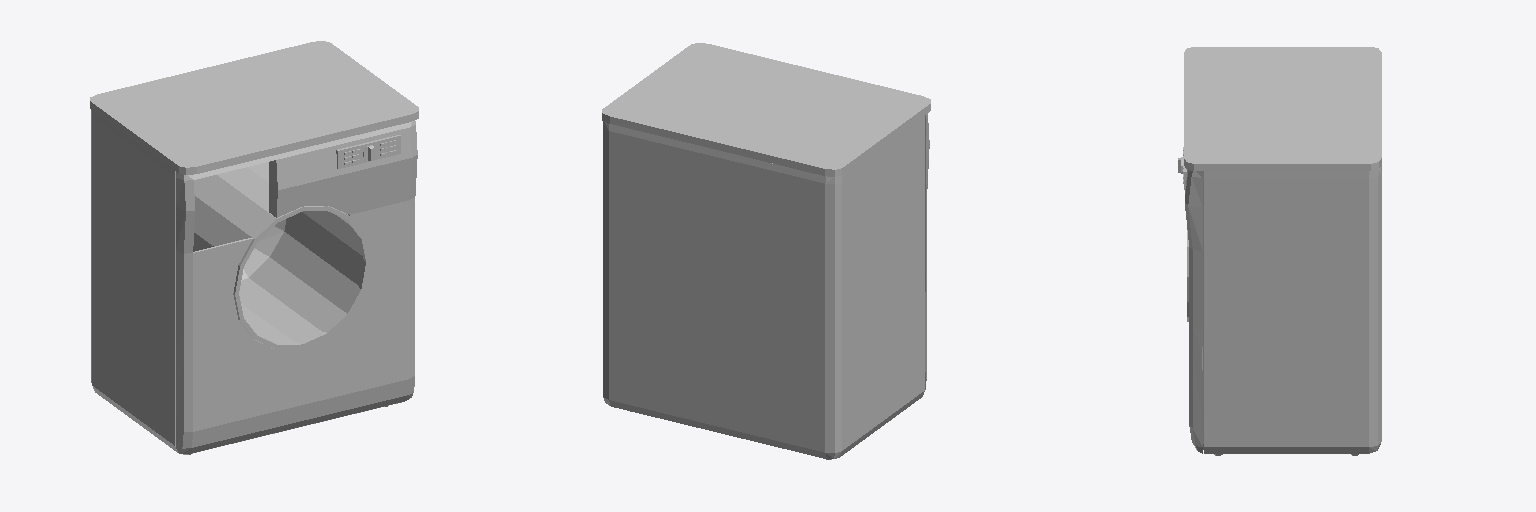
File: diskwasher.obj
The picture shows the model from 3 angles: view 1: azimuth 30°, elevation 25°; view 2: azimuth 150°, elevation 25°; view 3: azimuth 270°, elevation 25°; orthographic projection.
Parts seen in each view (by area): view 1: Cube.059_Cube.113; view 2: Cube.059_Cube.113; view 3: Cube.059_Cube.113.
Part boxes in pixels (left/top/right/bottom): Cube.059_Cube.113: left=90, top=41, right=418, bottom=454; Cube.059_Cube.113: left=602, top=43, right=930, bottom=459; Cube.059_Cube.113: left=1178, top=47, right=1381, bottom=455.
Size of the model in its own units: 0.1174 by 0.1407 by 0.0861.